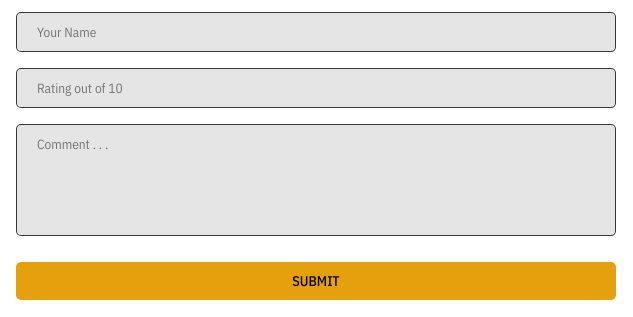
it: ReviewForm › submits when inputs are valid
Type "Bob" into the field with placeholder "Your Name" at point(316, 32), box [16,12,616,52]
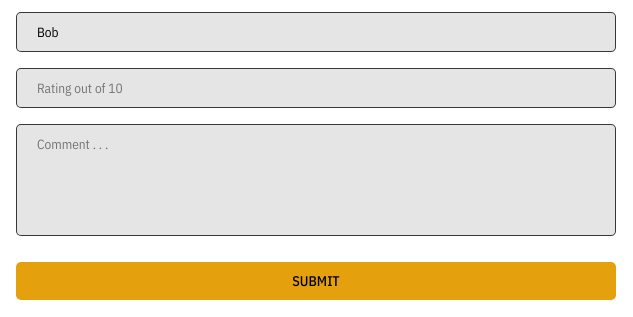
Type "8" into the number field with placeholder "Rating out of 10" at point(316, 88), box [16,68,616,108]
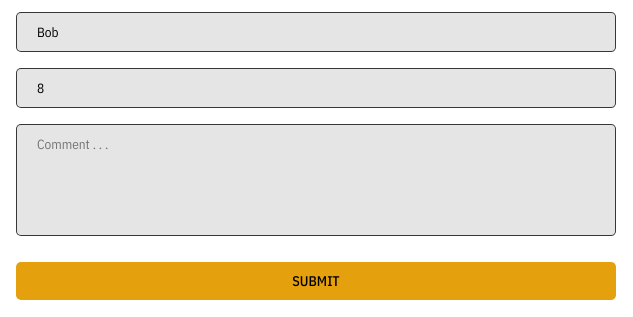
Type "Great movie!" into the text box with placeholder "Comment . . ." at point(316, 180), box [16,124,616,236]
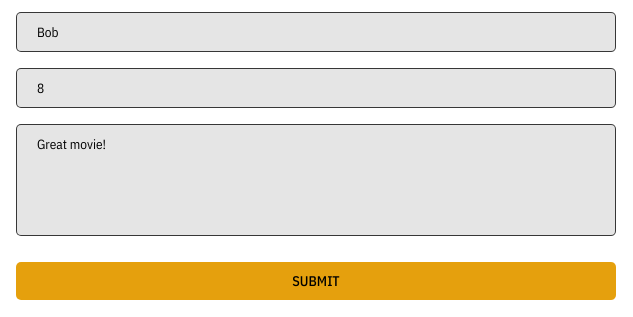
Submit the form from the button "Submit", box [16,262,616,300]
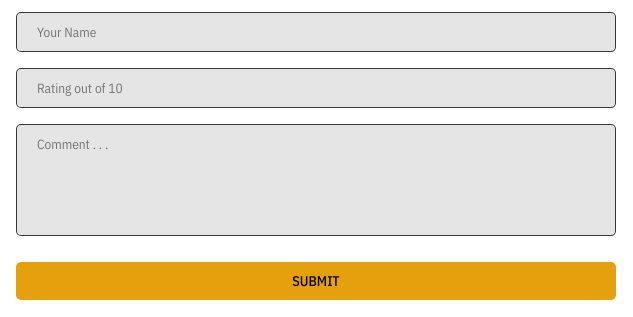
Expected: the field with placeholder "Your Name" is empty, [16,12,616,52]
Expected: the number field with placeholder "Rating out of 10" is not empty, [16,68,616,108]
Expected: the text box with placeholder "Comment . . ." is empty, [16,124,616,236]
